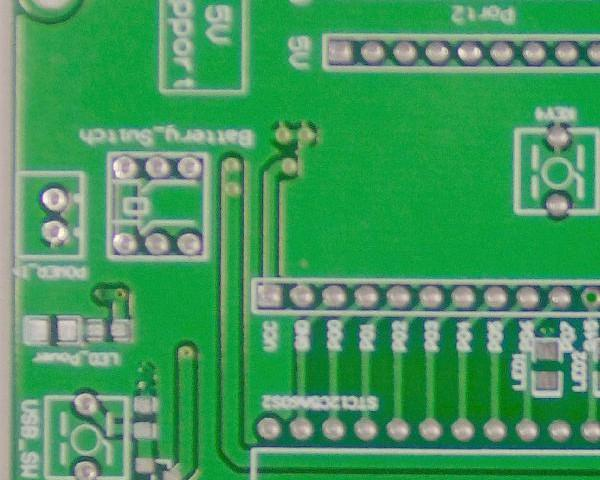missing hole: (577, 282, 600, 314)
